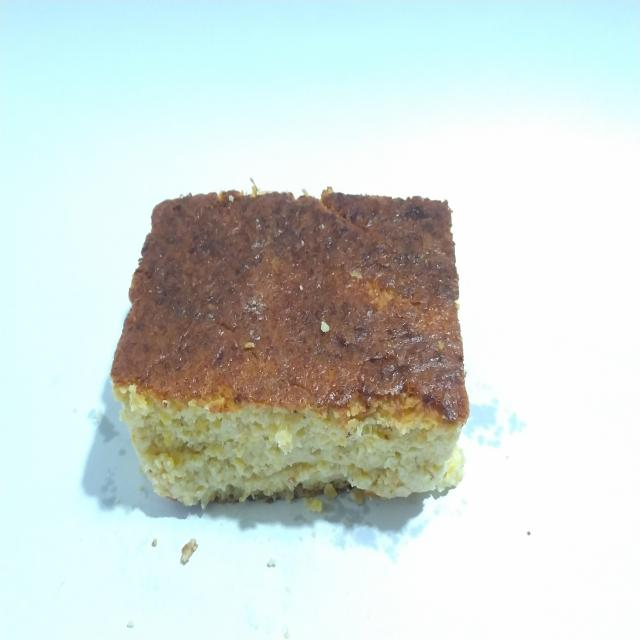Food: (101, 171, 488, 516)
